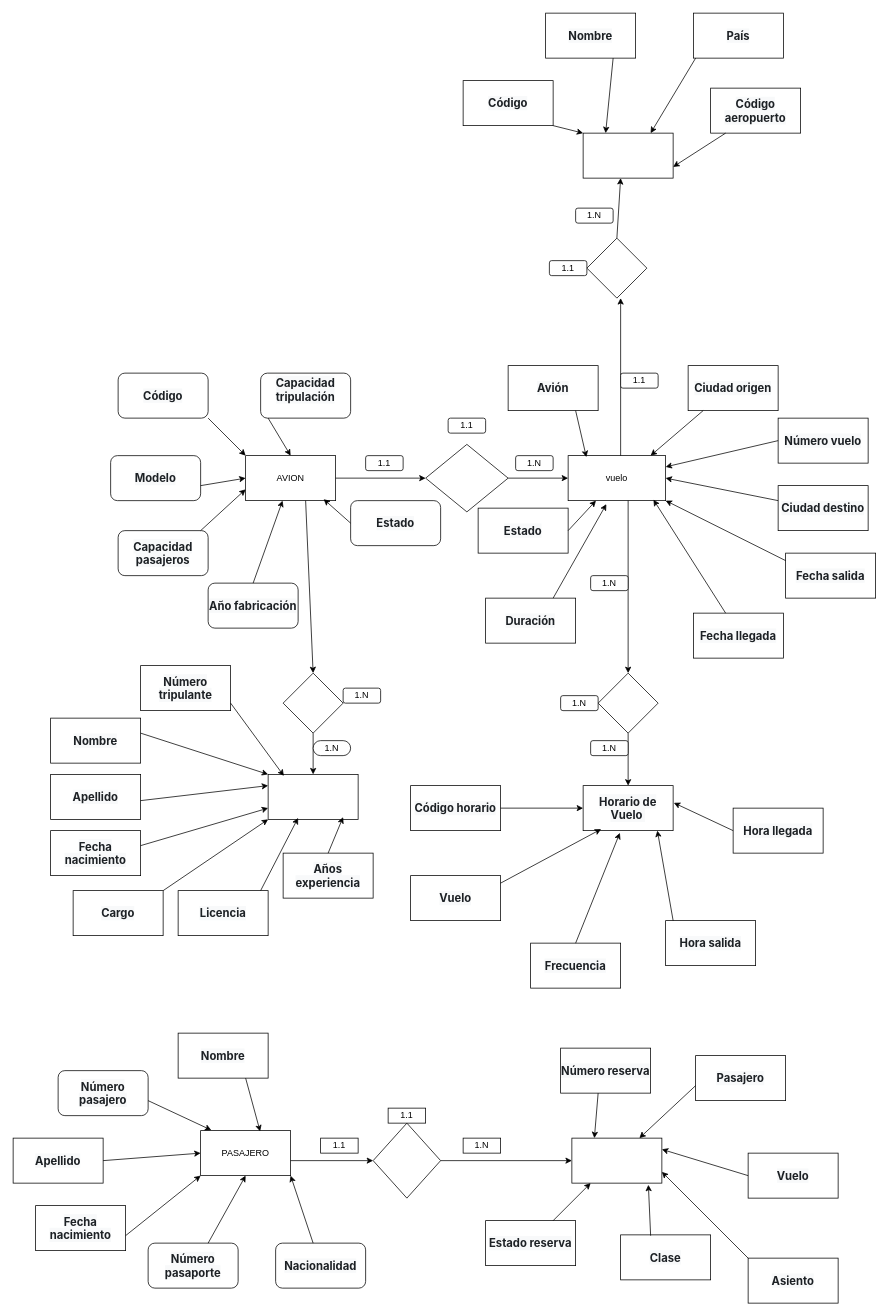
This 889x1316 diagram has some shape labels left out. The shapes that lost their labels are listed below. From the top down, each one's centre as x and y in pixels, then its label:
(627,155): CIUDAD
(616,267): DESTINO
(466,478): PERMISOS
(312,702): PROPIO
(627,702): LLEGADA
(312,796): Tripulación
(406,1160): PERTENECE
(616,1160): Reserva de Pasajero
